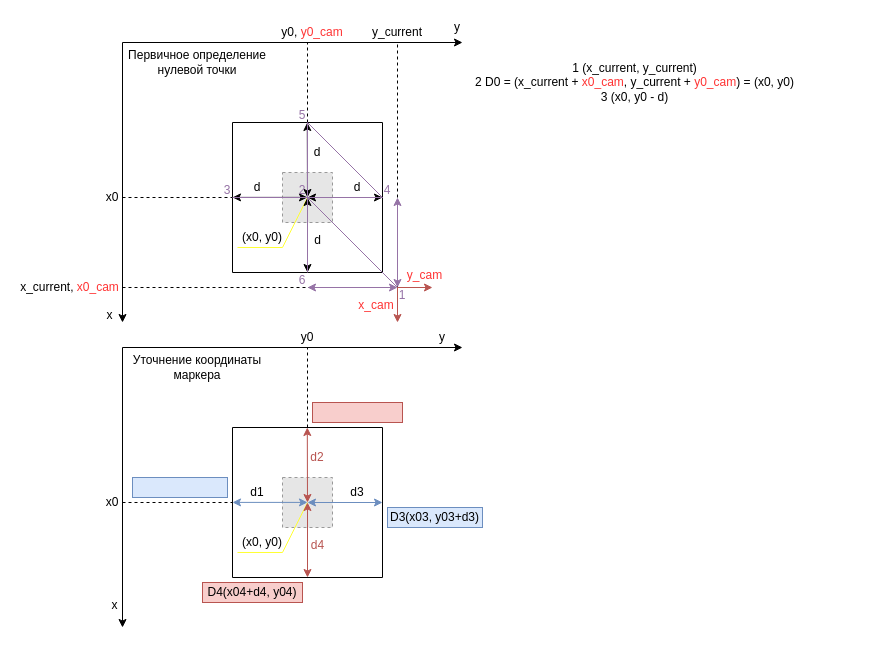
Image size: 889x654. Some labels were removed from this diagram. Grey dashed boxes stand in for pictures. Each missing label, with the centre of its shape:
"D1(x01, y01-d1)" goes at (180,487).
"D2(x02-d2, y02)" goes at (357,412).
